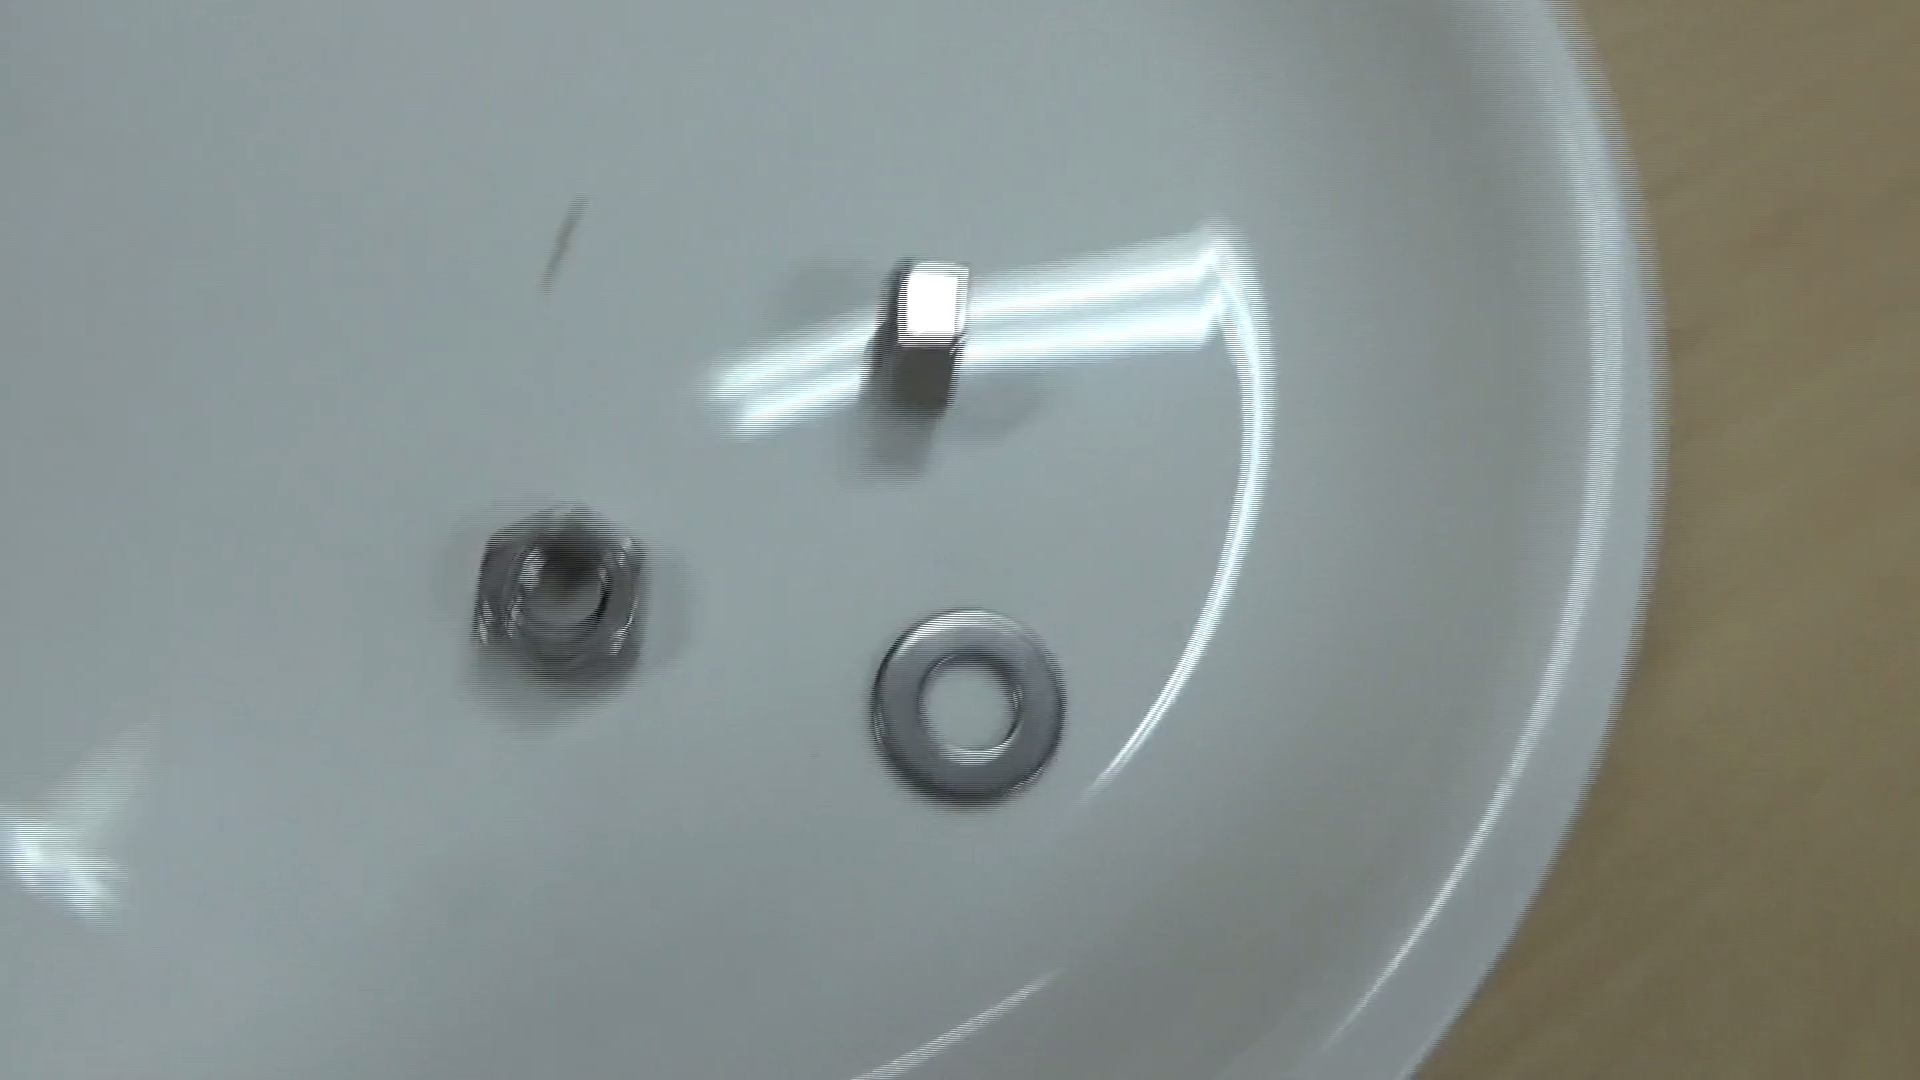nut: (467, 501, 651, 691), (862, 256, 967, 425)
washer: (862, 604, 1069, 811)
